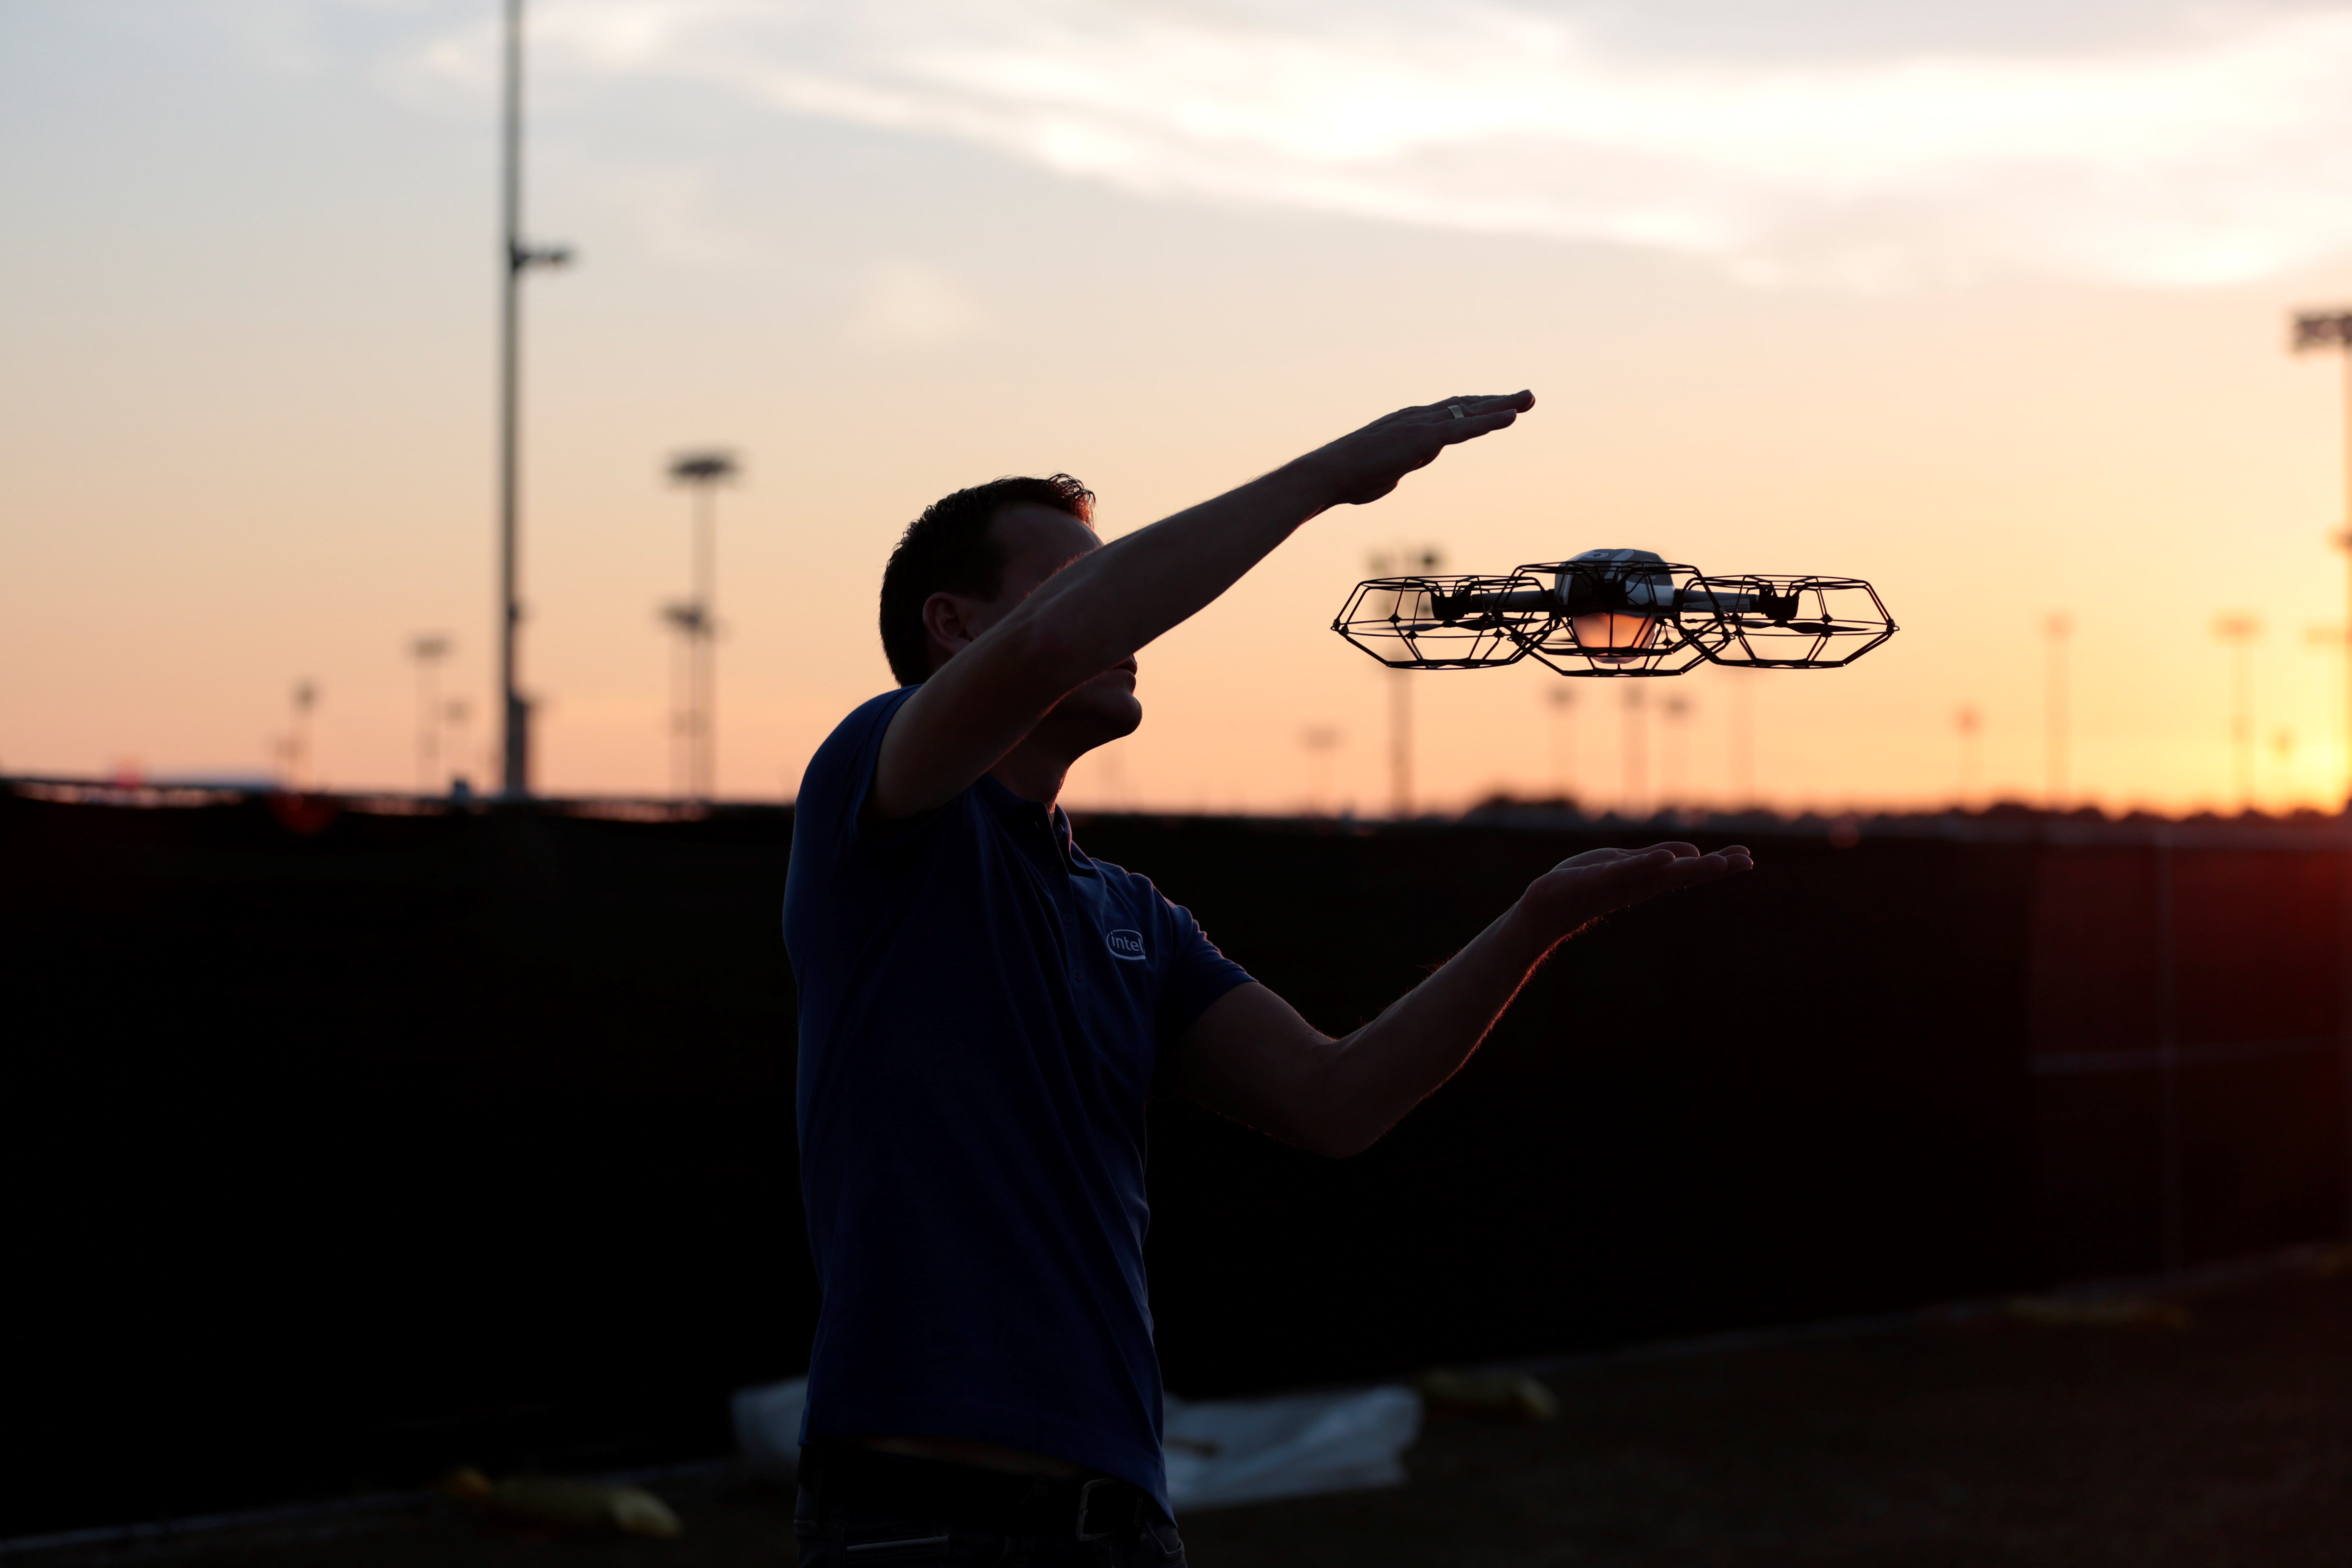drone: (1312, 542, 1906, 696)
person: (759, 381, 1781, 1568)
